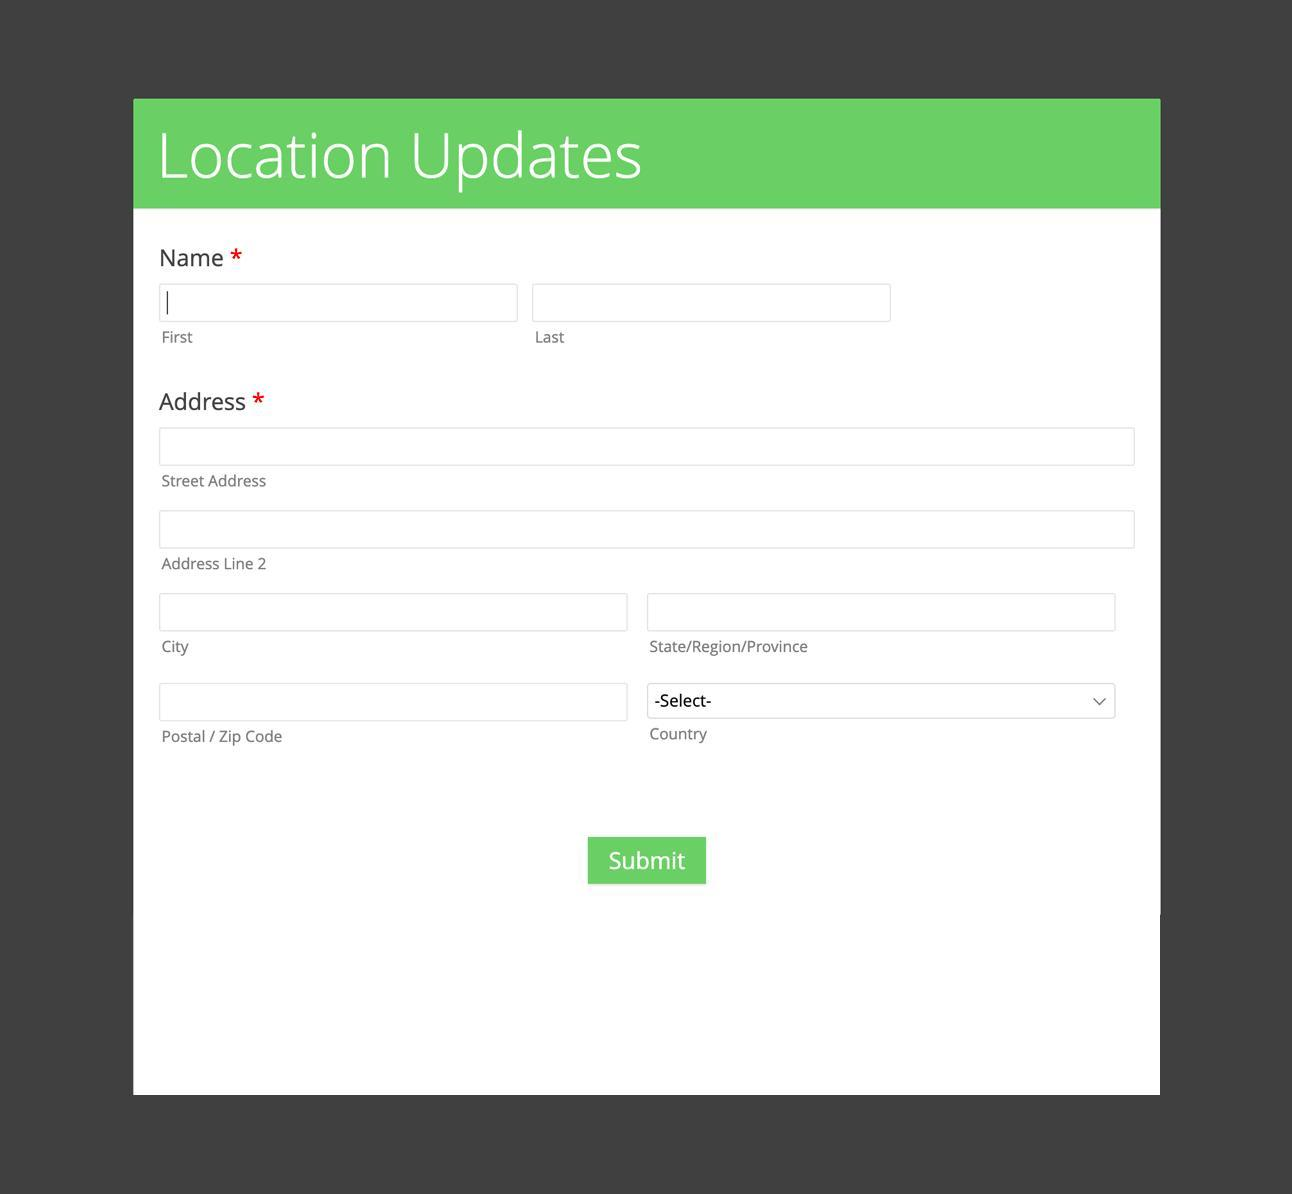button: (586, 835, 706, 887)
dropdown: (649, 683, 1116, 722)
input: (159, 428, 1136, 469), (160, 512, 1138, 551), (651, 592, 1114, 632), (160, 683, 628, 722), (159, 596, 629, 632), (161, 285, 520, 324), (532, 285, 891, 324)
label: (159, 553, 278, 583), (161, 386, 270, 418), (159, 729, 282, 753), (644, 637, 811, 654), (159, 472, 275, 492), (159, 243, 243, 270), (651, 724, 716, 745), (159, 329, 203, 347), (159, 638, 191, 661), (533, 333, 568, 348)
